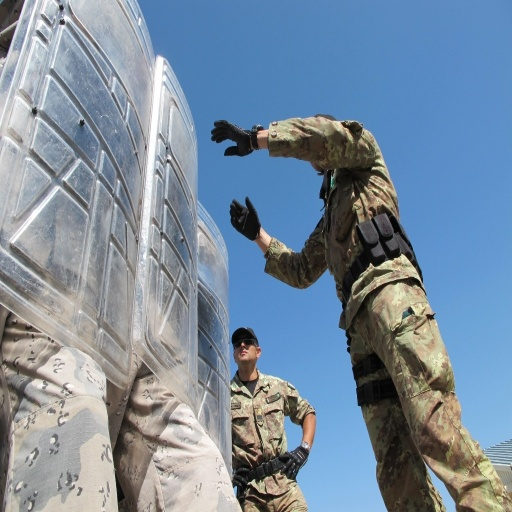hand: (210, 109, 264, 154), (228, 192, 261, 242), (278, 446, 312, 481), (230, 465, 250, 492)
